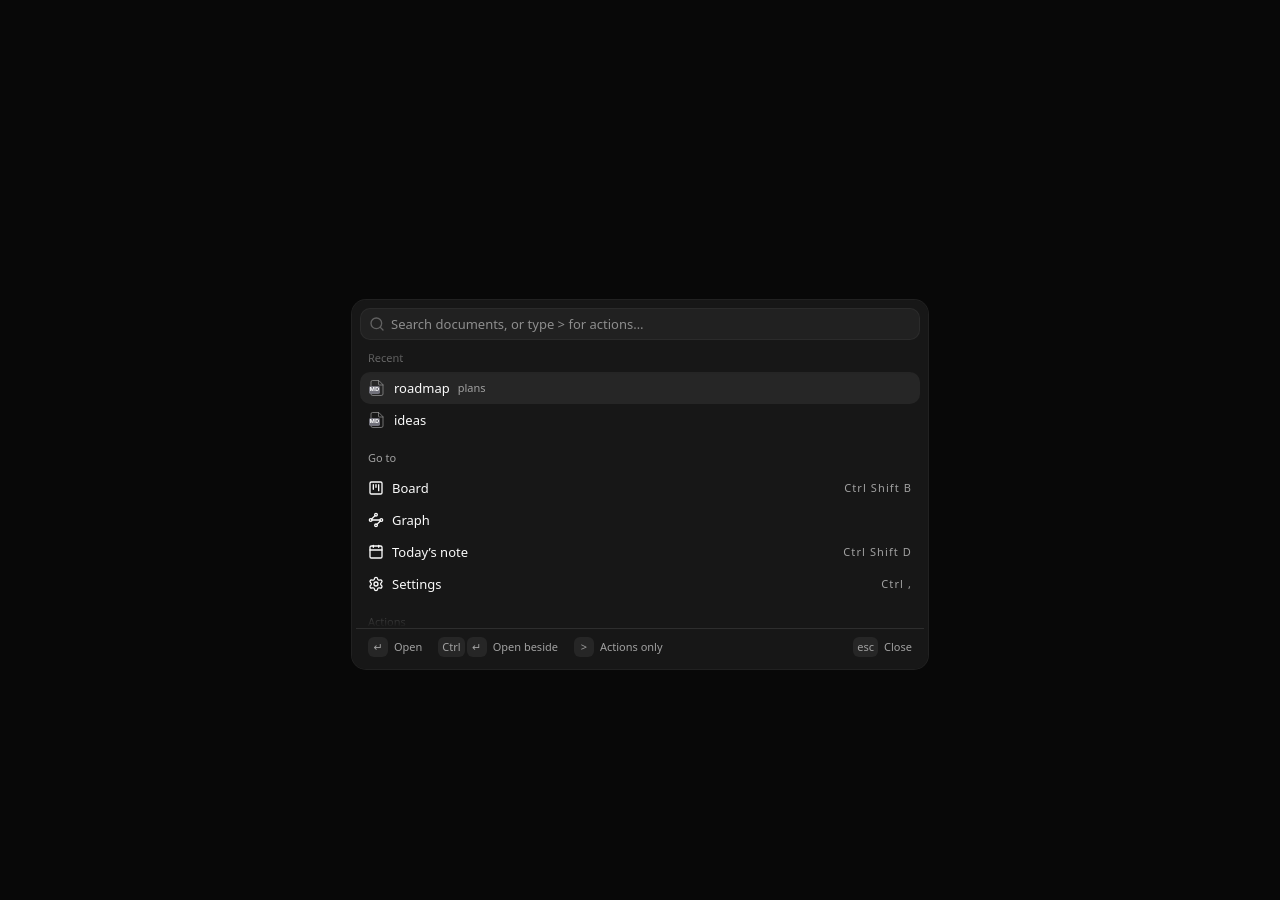
Test: notes whose text matches follow the name matches
This screenshot has width=1280, height=900.
Type "quarterly" into the dropdown.
click(652, 324); type("quarterly")  # box [385,314,919,334]
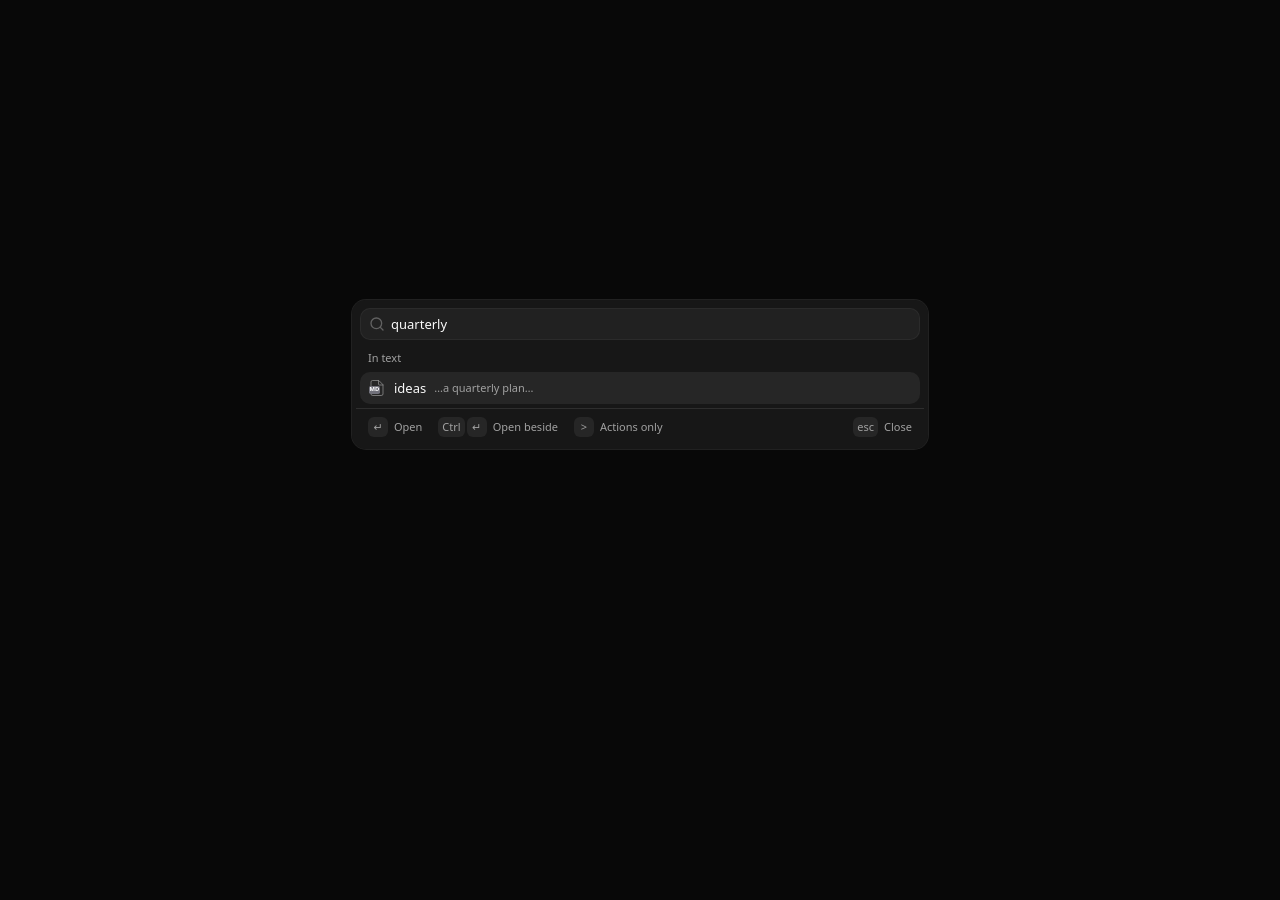
Expected: the element named "In text" is shown, [360,372,920,404]
Expected: the text "…a quarterly plan…" is shown, [434,380,534,395]
